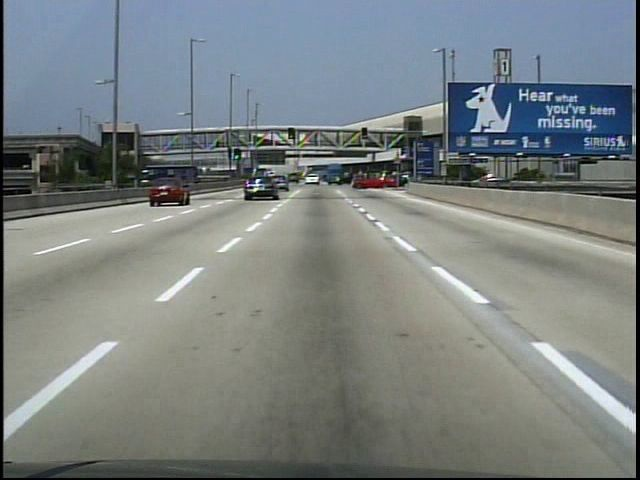person: (215, 140, 220, 150)
